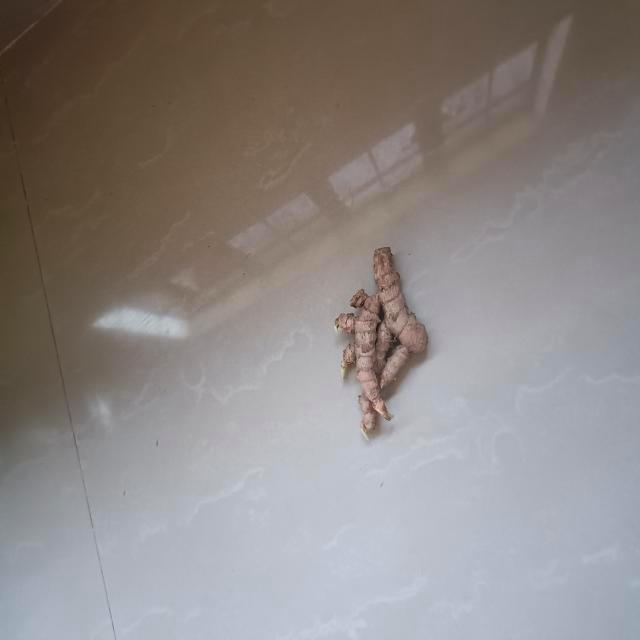ginger: (334, 243, 430, 441)
